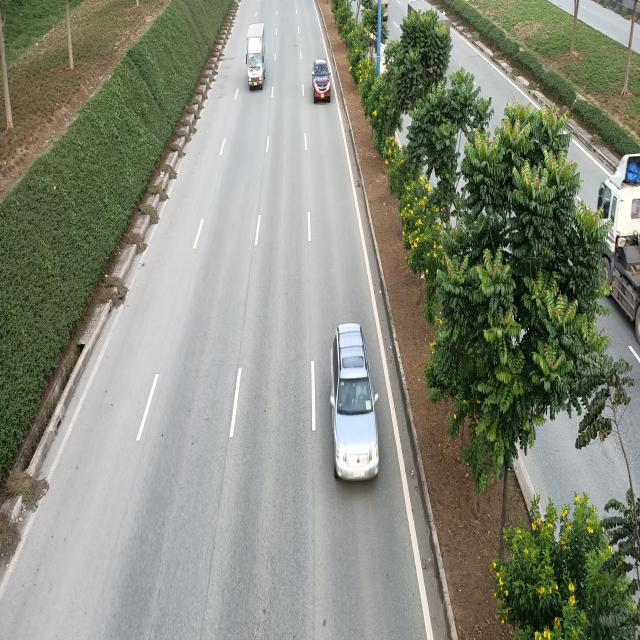car: (330, 324, 380, 484), (312, 59, 332, 103)
truck: (245, 24, 266, 90)
